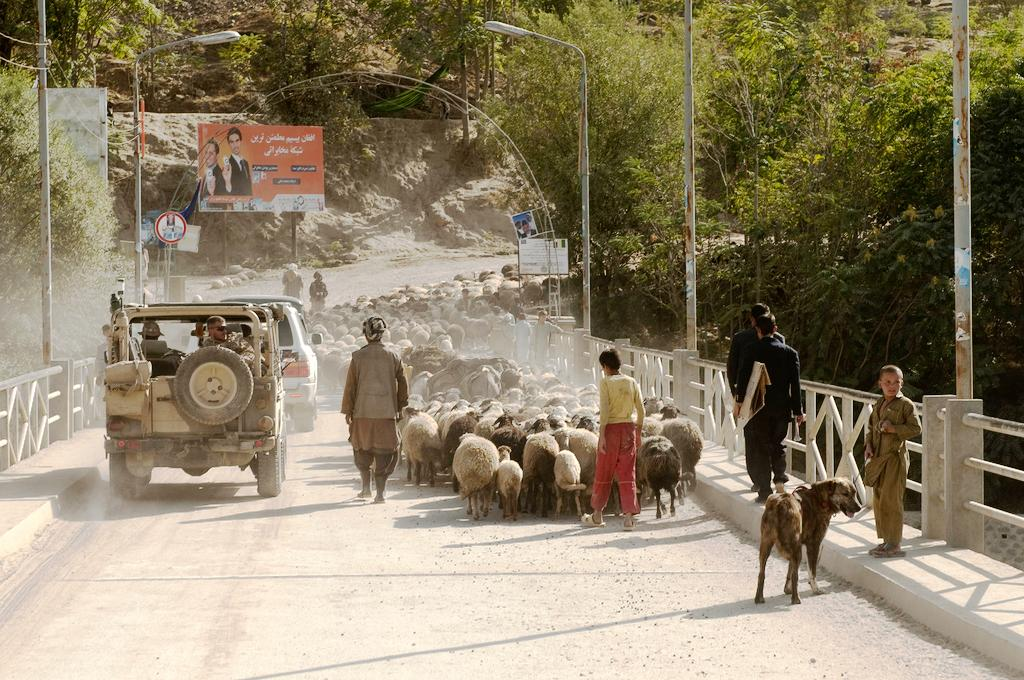Sheep: (443, 432, 499, 525), (641, 432, 678, 511), (401, 407, 438, 484), (527, 434, 556, 511), (499, 438, 523, 511), (680, 403, 699, 494), (556, 449, 581, 511)
